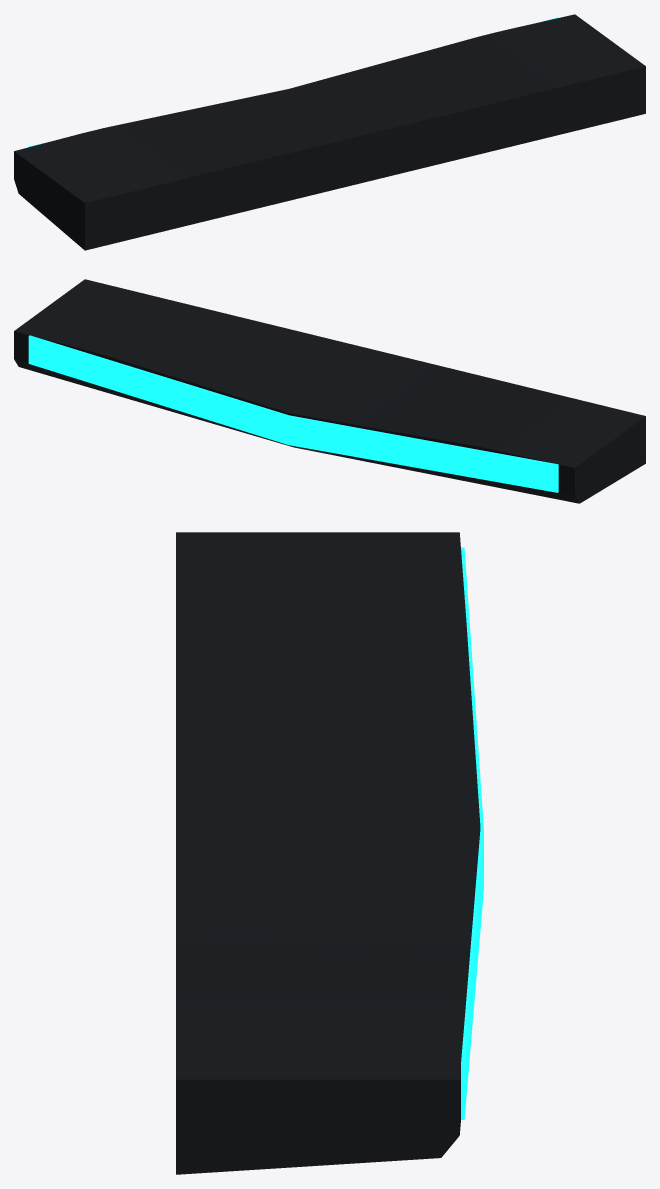
File: visor_v_band.glb
The picture shows the model from 3 angles, top to bottom: view 1: azimuth 30°, elevation 25°; view 2: azimuth 150°, elevation 25°; view 3: azimuth 270°, elevation 25°; orthographic projection. The views are drawn at different scales.
Visible parts, largest first — view 1: visor_v_band_deco_body; view 2: visor_v_band_deco_body, visor_v_band_deco_neon; view 3: visor_v_band_deco_body, visor_v_band_deco_neon.
Boxes of the visible parts, <box> form: visor_v_band_deco_body: <box>14,14,645,250</box>; visor_v_band_deco_body: <box>14,279,645,503</box>; visor_v_band_deco_neon: <box>28,335,558,492</box>; visor_v_band_deco_body: <box>176,532,480,1174</box>; visor_v_band_deco_neon: <box>461,547,483,1119</box>.
Size of the model in its own units: 2.1 by 0.17 by 0.4993.
